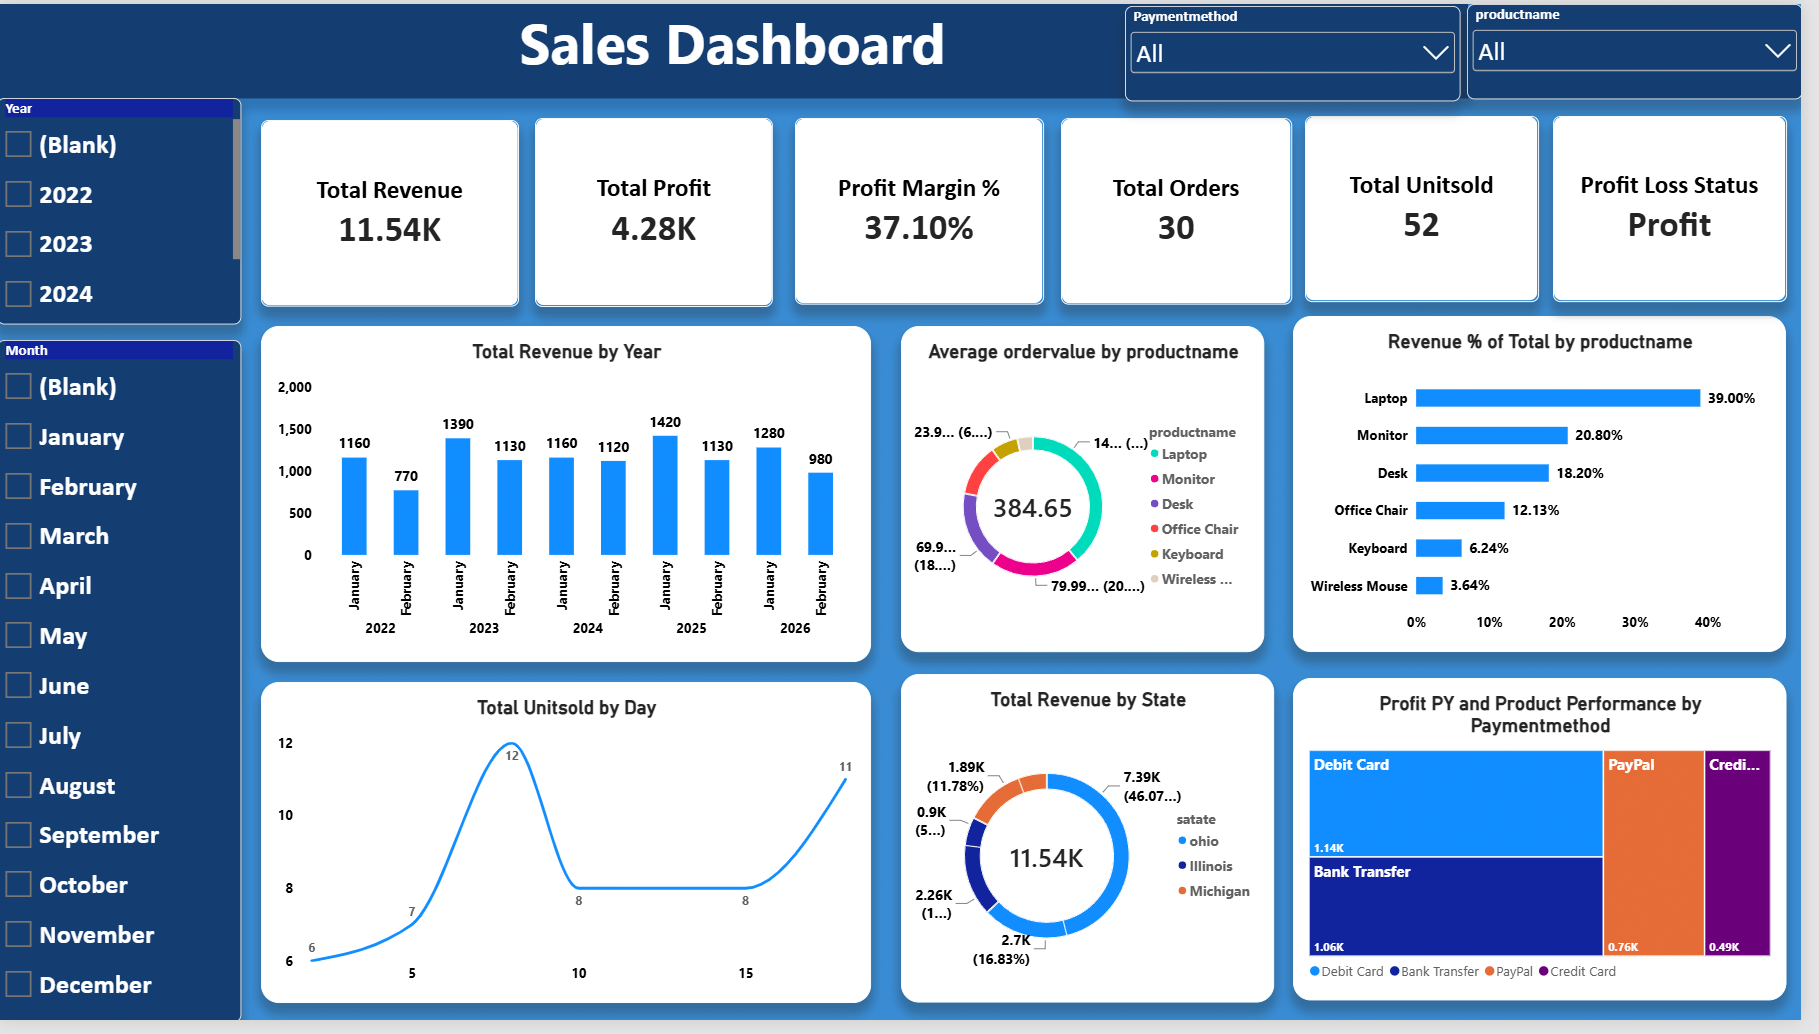

This screenshot's page, from the dashboard's own definition file:
{"tool":"powerbi","page":{"name":"Sales Dashboard","canvas":[1920,1080],"ordinal":0},"visuals":[{"type":"textbox","box":[0,0,1565.1,100.6],"z":0},{"type":"slicer","fields":{"Values":["Date.Date.Variation.Date Hierarchy.Year"]},"box":[0,99.3,260.1,241.2],"z":1000},{"type":"slicer","fields":{"Values":["Date.Date.Variation.Date Hierarchy.Month"]},"box":[0,357,260.1,725.9],"z":2000},{"type":"slicer","fields":{"Values":["produts.productname"]},"box":[1563,0,357,101.7],"z":3000},{"type":"cardVisual","fields":{"Data":["Products.Total Revenue"]},"box":[281.4,123,274.3,198.6],"z":4000},{"type":"cardVisual","fields":{"Data":["produts.Total Profit"]},"box":[572.2,120.6,253,201],"z":5000},{"type":"cardVisual","fields":{"Data":["produts.Profit Margin %"]},"box":[848.9,120.6,264.8,198.6],"z":6000},{"type":"cardVisual","fields":{"Data":["produts.Total orders"]},"box":[1132.6,120.6,245.9,198.6],"z":7000},{"type":"cardVisual","fields":{"Data":["produts.Total unitsold"]},"box":[1391.5,119.1,248.9,197.9],"z":8000},{"type":"columnChart","title":"Total Revenue by Year ","fields":{"Category":["Date.Date.Variation.Date Hierarchy.Year","Date.Date.Variation.Date Hierarchy.Month"],"Y":["produts.Total Revenue"]},"box":[280.7,341.6,648.8,357.5],"z":9000},{"type":"lineChart","fields":{"Category":["Date.Date.Variation.Date Hierarchy.Day"],"Y":["produts.Total unitsold"]},"box":[280.7,720.3,648.8,341.6],"z":10000},{"type":"clusteredBarChart","fields":{"Category":["produts.productname"],"Y":["produts.Revenue % of Total"]},"box":[1379.8,331,524.4,357.5],"z":11000},{"type":"treemap","fields":{"Group":["payment.Paymentmethod"],"Values":["Products.Profit PY"]},"box":[1378.6,716.1,524.9,342.9],"z":12000},{"type":"donutChart","title":"Total Revenue by State ","fields":{"Category":["Customers.satate"],"Y":["produts.Total Revenue","Products.Best-Selling Product Revenue"]},"box":[961.3,712.4,397.2,349.6],"z":13000},{"type":"donutChart","fields":{"Category":["produts.productname"],"Y":["Products.Average ordervalue"]},"box":[961.3,341.6,386.6,346.9],"z":14000},{"type":"slicer","fields":{"Values":["payment.Paymentmethod"]},"box":[1200,2.1,357,101.7],"z":15000},{"type":"cardVisual","fields":{"Data":["Products.Profit Loss Status"]},"box":[1655.3,119.1,248.9,197.9],"z":16000}]}

Visuals, with their boxes in screenshot pixels (x1, y1, x2, y2), scaled from the page's 1920x1080 canvas onto the 1819x1034 screenshot:
textbox: 0,0,1483,96
slicer - Date.Date.Variation.Date Hierarchy.Year: 0,95,246,326
slicer - Date.Date.Variation.Date Hierarchy.Month: 0,342,246,1033
slicer - produts.productname: 1481,0,1818,97
cardVisual - Products.Total Revenue: 267,118,526,308
cardVisual - produts.Total Profit: 542,115,782,308
cardVisual - produts.Profit Margin %: 804,115,1055,306
cardVisual - produts.Total orders: 1073,115,1306,306
cardVisual - produts.Total unitsold: 1318,114,1554,303
"Total Revenue by Year " columnChart: 266,327,881,669
lineChart - Date.Date.Variation.Date Hierarchy.Day x produts.Total unitsold: 266,690,881,1017
clusteredBarChart - produts.productname x produts.Revenue % of Total: 1307,317,1804,659
treemap - payment.Paymentmethod x Products.Profit PY: 1306,686,1803,1014
"Total Revenue by State " donutChart: 911,682,1287,1017
donutChart - produts.productname x Products.Average ordervalue: 911,327,1277,659
slicer - payment.Paymentmethod: 1137,2,1475,99
cardVisual - Products.Profit Loss Status: 1568,114,1804,303
